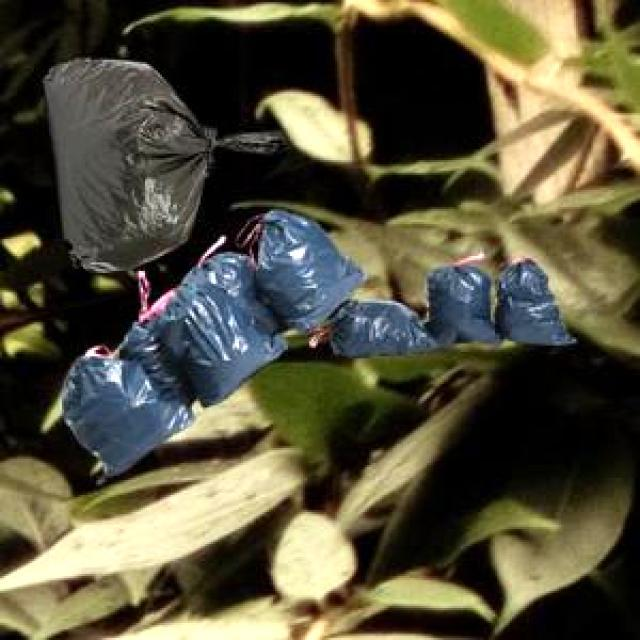Garbage_Bag: (59, 208, 364, 481), (39, 54, 287, 270), (325, 254, 573, 356)
